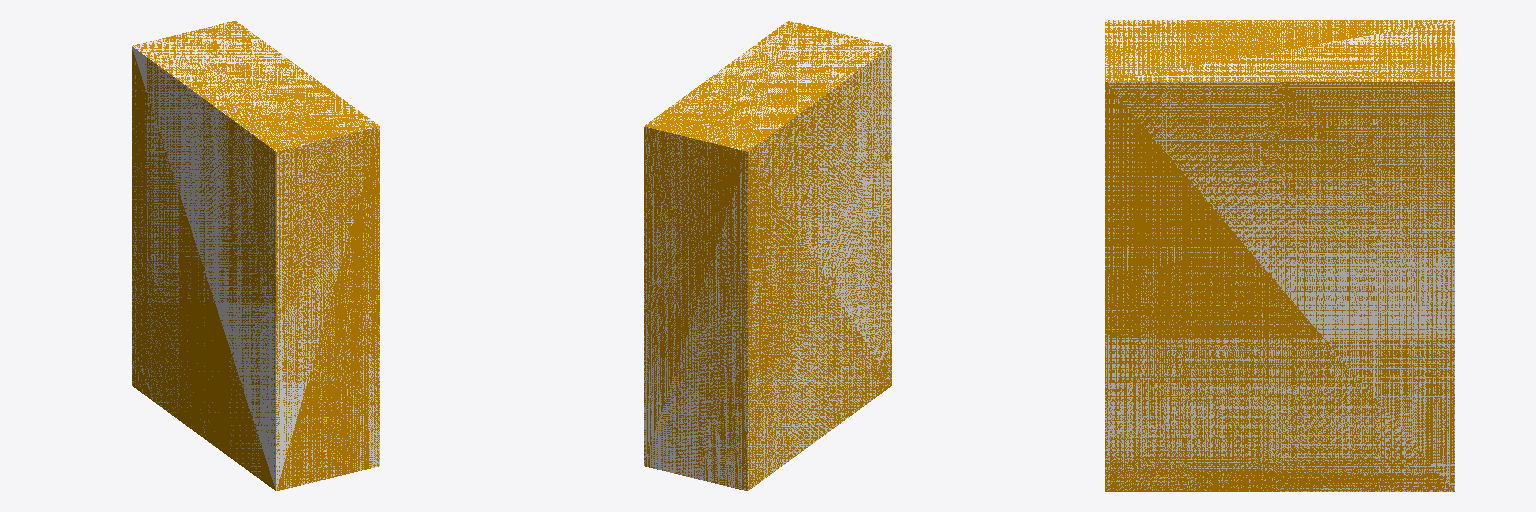
URDF robot description (my_object):
<?xml version="1.0" ?> 
<robot name="my_object" static="true">
  <link name="base_link">
  <inertial>
    <mass value="2.111" />
    <origin xyz="0 0 0.0" />
    <inertia ixx="1.0" ixy="0.0" ixz="0.0" iyy="1.0" iyz="0.0" izz="1.0"/>
  </inertial>
  <visual>
   <origin xyz="0 0 0.0" rpy="0 0 0" />
   <geometry>
     <mesh filename="package://cob_gazebo_objects/Media/models/book_gardening.dae"/>
   </geometry>
  </visual>
  <collision>
   <origin xyz="0 0 0" rpy="0 0 0" />
   <geometry>
     <box size="0.066 0.17 0.207" />
   </geometry>
  </collision>     
  </link>


<gazebo reference="base_link">
  <mu1>50.0</mu1>
  <mu2>50.0</mu2>
  <kp>1000000.0</kp>
  <kd>1.0</kd>
</gazebo>
</robot>

--- Facts derived from the render (not from the file) ---
The picture shows the robot from 3 angles, left to right: view 1: azimuth 30°, elevation 25°; view 2: azimuth 150°, elevation 25°; view 3: azimuth 270°, elevation 25°; orthographic projection.
Model my_object with 1 links and 0 joints (none), rooted at base_link, posed all joints at 0.
Links seen in each view (by area): view 1: base_link; view 2: base_link; view 3: base_link.
Link boxes in pixels (x1,y1,x2,y2): base_link: [132, 21, 379, 490]; base_link: [644, 21, 891, 490]; base_link: [1105, 20, 1454, 491].
Bounding box of the posed robot: 0.0017 × 0.0041 × 0.0052 m (x, y, z).
1 mesh visuals loaded from 1 distinct referenced files (1 Collada DAE).